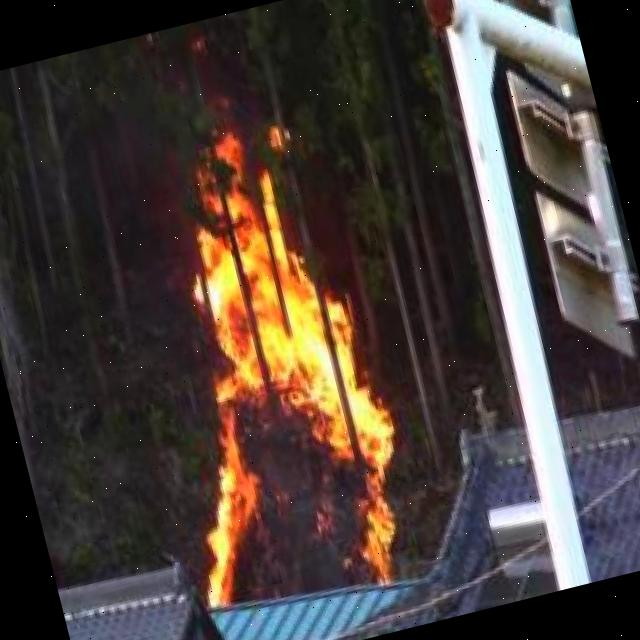fire: (110, 114, 430, 627)
